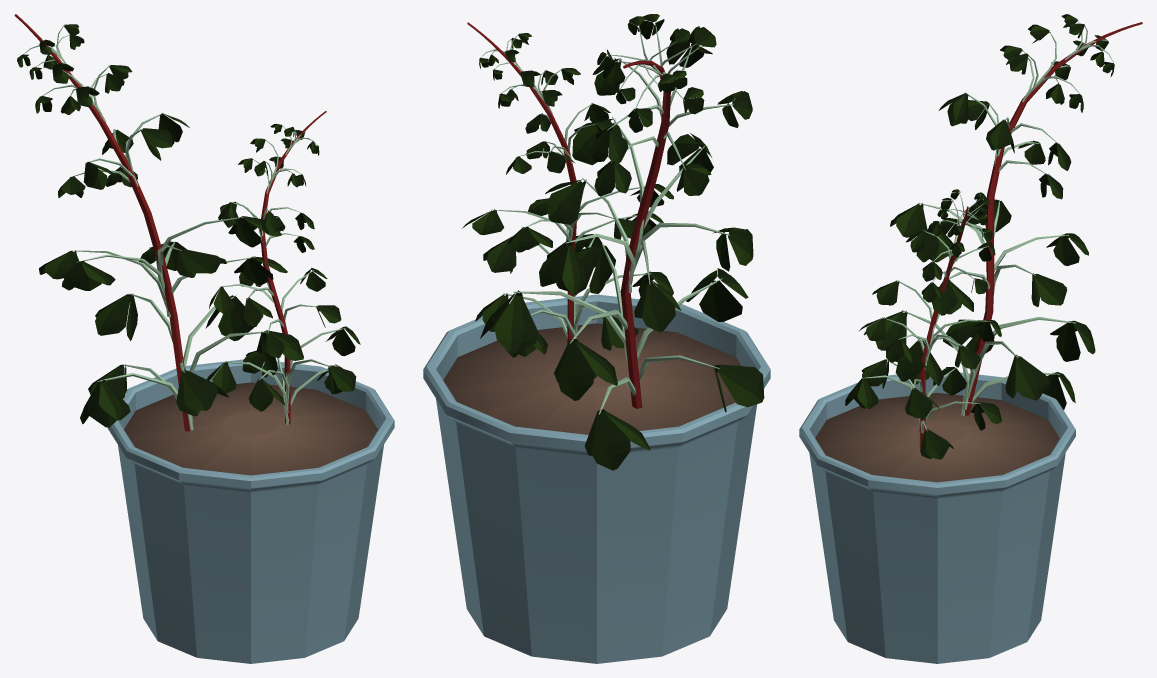
Rendered from oxalis.fbx.
3 renders of one model, left to right at view 1: azimuth 30°, elevation 25°; view 2: azimuth 150°, elevation 25°; view 3: azimuth 270°, elevation 25°, orthographic. The views are drawn at different scales.
Parts seen in each view (by area): view 1: MetalPlanter, Oxalis1, Oxalis; view 2: MetalPlanter, Oxalis1, Oxalis; view 3: MetalPlanter, Oxalis1, Oxalis.
Part boxes in pixels (bbox=[...]): MetalPlanter: bbox=[107, 359, 394, 663]; Oxalis1: bbox=[14, 14, 303, 431]; Oxalis: bbox=[207, 111, 360, 424]; MetalPlanter: bbox=[423, 294, 770, 663]; Oxalis1: bbox=[480, 14, 764, 470]; Oxalis: bbox=[462, 22, 673, 357]; MetalPlanter: bbox=[799, 370, 1075, 663]; Oxalis1: bbox=[863, 14, 1142, 415]; Oxalis: bbox=[845, 189, 1001, 459].
Size of the model in its own units: 4.21 by 8.13 by 4.64.
